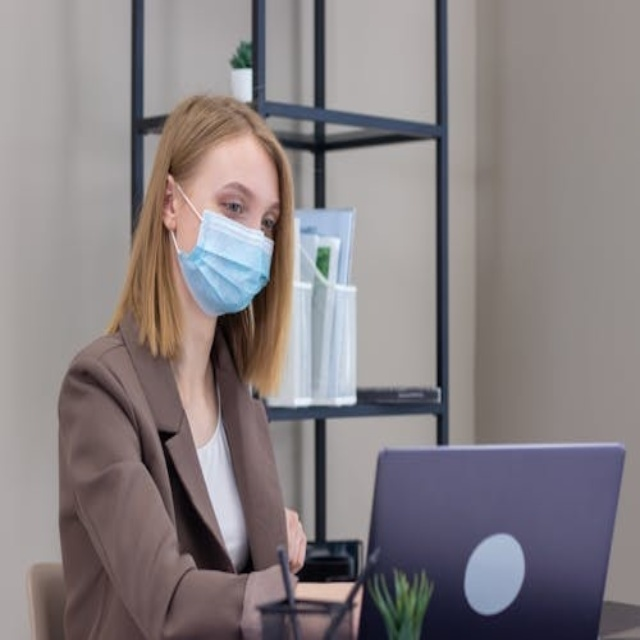Mascara: (170, 182, 274, 316)
Sin_gafas: (206, 167, 283, 234)
Sin_guantes: (282, 486, 310, 573)
